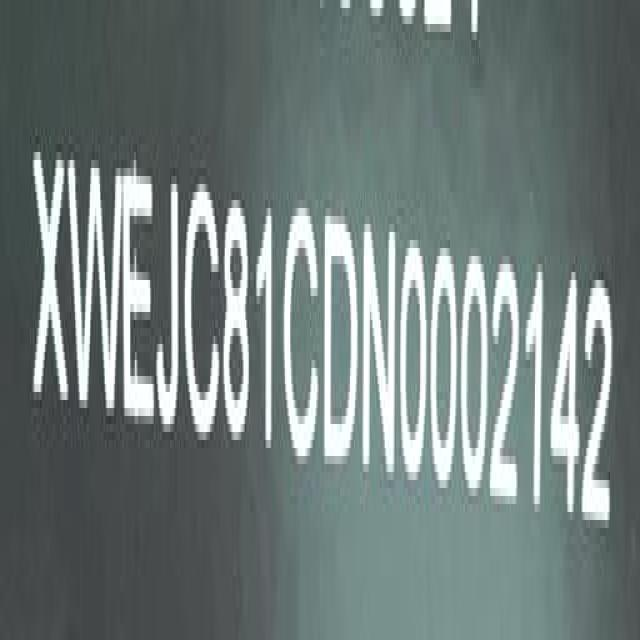0: (428, 240, 460, 504), (398, 234, 428, 498), (458, 249, 488, 501)
1: (526, 264, 548, 533), (256, 196, 274, 454)
2: (583, 261, 616, 539), (490, 252, 520, 518)
4: (550, 255, 581, 515)
8: (222, 193, 253, 456)
C: (280, 198, 320, 489), (184, 178, 221, 444)
D: (322, 196, 360, 474)
E: (121, 151, 155, 439)
J: (156, 169, 182, 430)
N: (362, 219, 396, 483)
W: (64, 151, 123, 421)
X: (30, 139, 71, 421)
